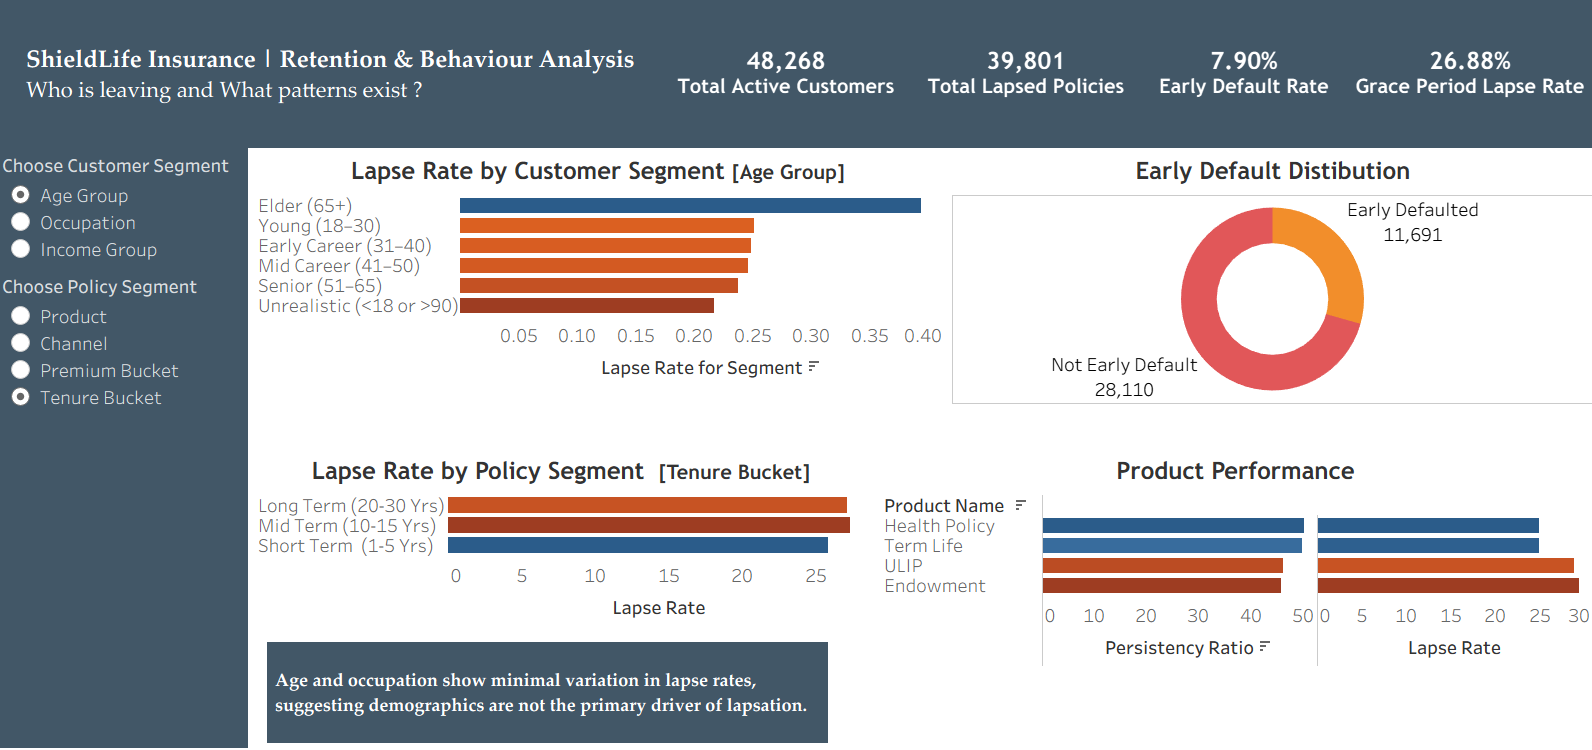

The dashboard page shown, as its layout file describes it:
{"tool":"tableau","page":{"name":"Retention & Behaviour Analysis","canvas":[1600,750],"ordinal":1},"visuals":[{"type":"text","box":[0,0,667,150]},{"type":"worksheet","title":"RB.KPI- Total Active Customers","mark":"Automatic","box":[667,0,242,150]},{"type":"worksheet","title":"RB.KPI - Total Lapsed Policies","mark":"Automatic","box":[909,0,239,150]},{"type":"worksheet","title":"RB.KPI - Early Default Rate","mark":"Automatic","box":[1148,0,195,150]},{"type":"worksheet","title":"RB.Grace Period Lapse","mark":"Automatic","box":[1343,0,257,150]},{"type":"parameter","param":"[Parameters].[Parameter 1]","box":[0,150,250,121]},{"type":"worksheet","title":"Lapse Rate by Customer Segment","mark":"Automatic","rows":["Calculation_0621795151462401"],"cols":["Calculation_0621795152007170"],"box":[250,150,700,260]},{"type":"worksheet","title":"Early Default Distibution","mark":"Pie","rows":["Calculation_0771053560201216","Calculation_0771053560201216"],"box":[950,150,650,260]},{"type":"parameter","param":"[Parameters].[Parameter 2]","box":[0,271,250,148]},{"type":"worksheet","title":"Lapse Rate by Policy Segment","mark":"Automatic","rows":["Calculation_0621795159113732"],"cols":["Calculation_0621795154886659"],"box":[250,450,626,230]},{"type":"worksheet","title":"Product Performance","mark":"Automatic","rows":["product_name"],"cols":["Calculation_0279022057062401","Calculation_0621795154886659"],"box":[876,450,724,230]},{"type":"text","box":[269,644,561,101]}]}

Visuals, with their boxes in screenshot pixels (x1, y1, x2, y2), scaled from the page's 1600x750 canvas onto the 1592x750 screenshot:
text: [left=0, top=0, right=664, bottom=150]
"RB.KPI- Total Active Customers" worksheet: [left=664, top=0, right=904, bottom=150]
"RB.KPI - Total Lapsed Policies" worksheet: [left=904, top=0, right=1142, bottom=150]
"RB.KPI - Early Default Rate" worksheet: [left=1142, top=0, right=1336, bottom=150]
"RB.Grace Period Lapse" worksheet: [left=1336, top=0, right=1591, bottom=150]
parameter: [left=0, top=150, right=249, bottom=271]
"Lapse Rate by Customer Segment" worksheet: [left=249, top=150, right=945, bottom=410]
"Early Default Distibution" worksheet (Pie marks): [left=945, top=150, right=1591, bottom=410]
parameter: [left=0, top=271, right=249, bottom=419]
"Lapse Rate by Policy Segment" worksheet: [left=249, top=450, right=872, bottom=680]
"Product Performance" worksheet: [left=872, top=450, right=1591, bottom=680]
text: [left=268, top=644, right=826, bottom=745]
